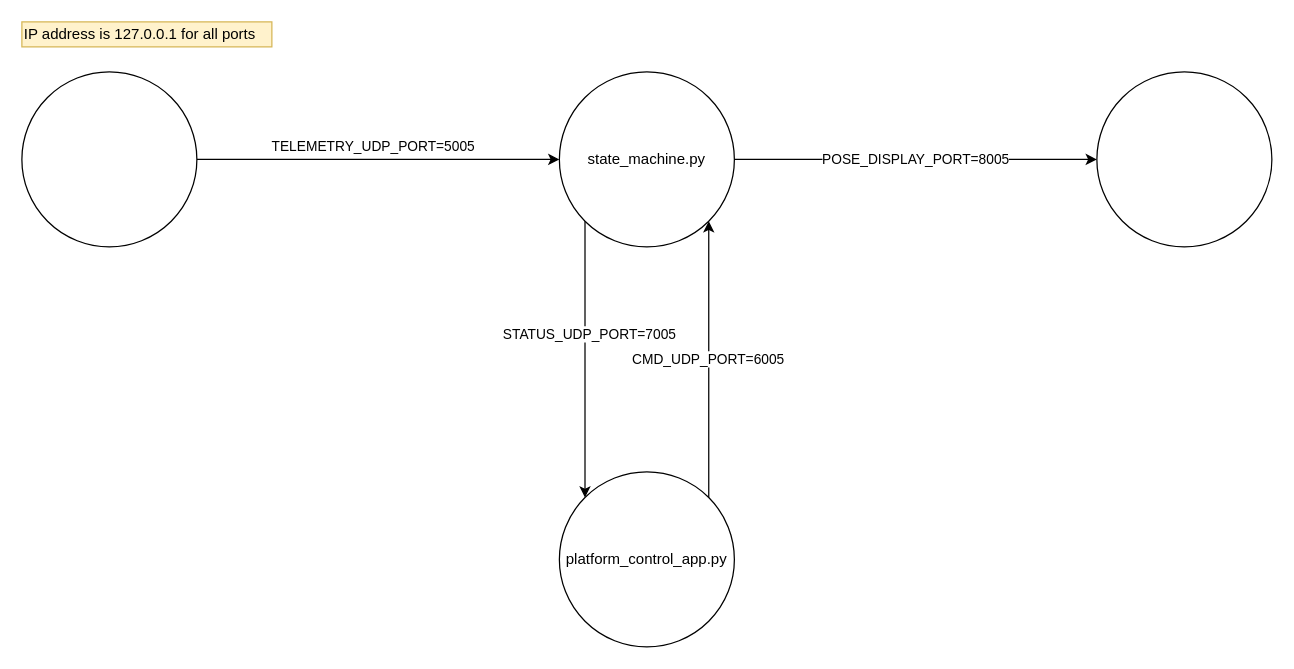
This 1294x669 diagram has some shape labels left out. The shapes that lost their labels are listed below. From the top down, each one's box as (x1, y1, x2, y2) in pixels, then its label:
(21, 71, 197, 247): dummy_airplane_app.py
(1096, 71, 1272, 247): stewart_display.py
